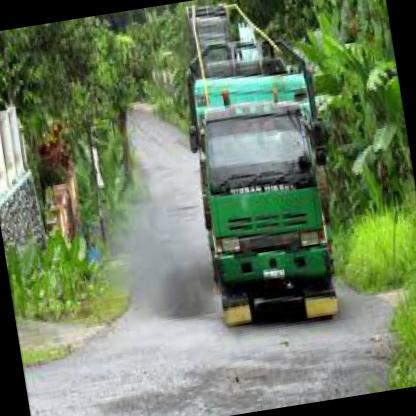truck: (192, 88, 344, 331)
